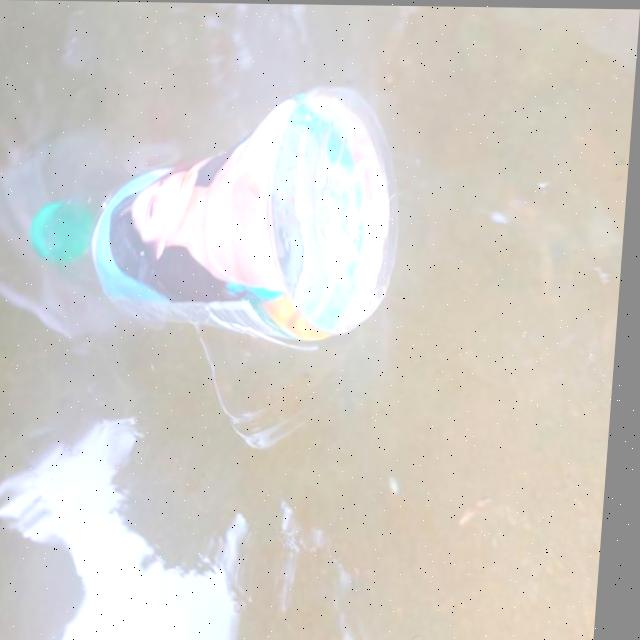waterbottle: (23, 97, 418, 361)
